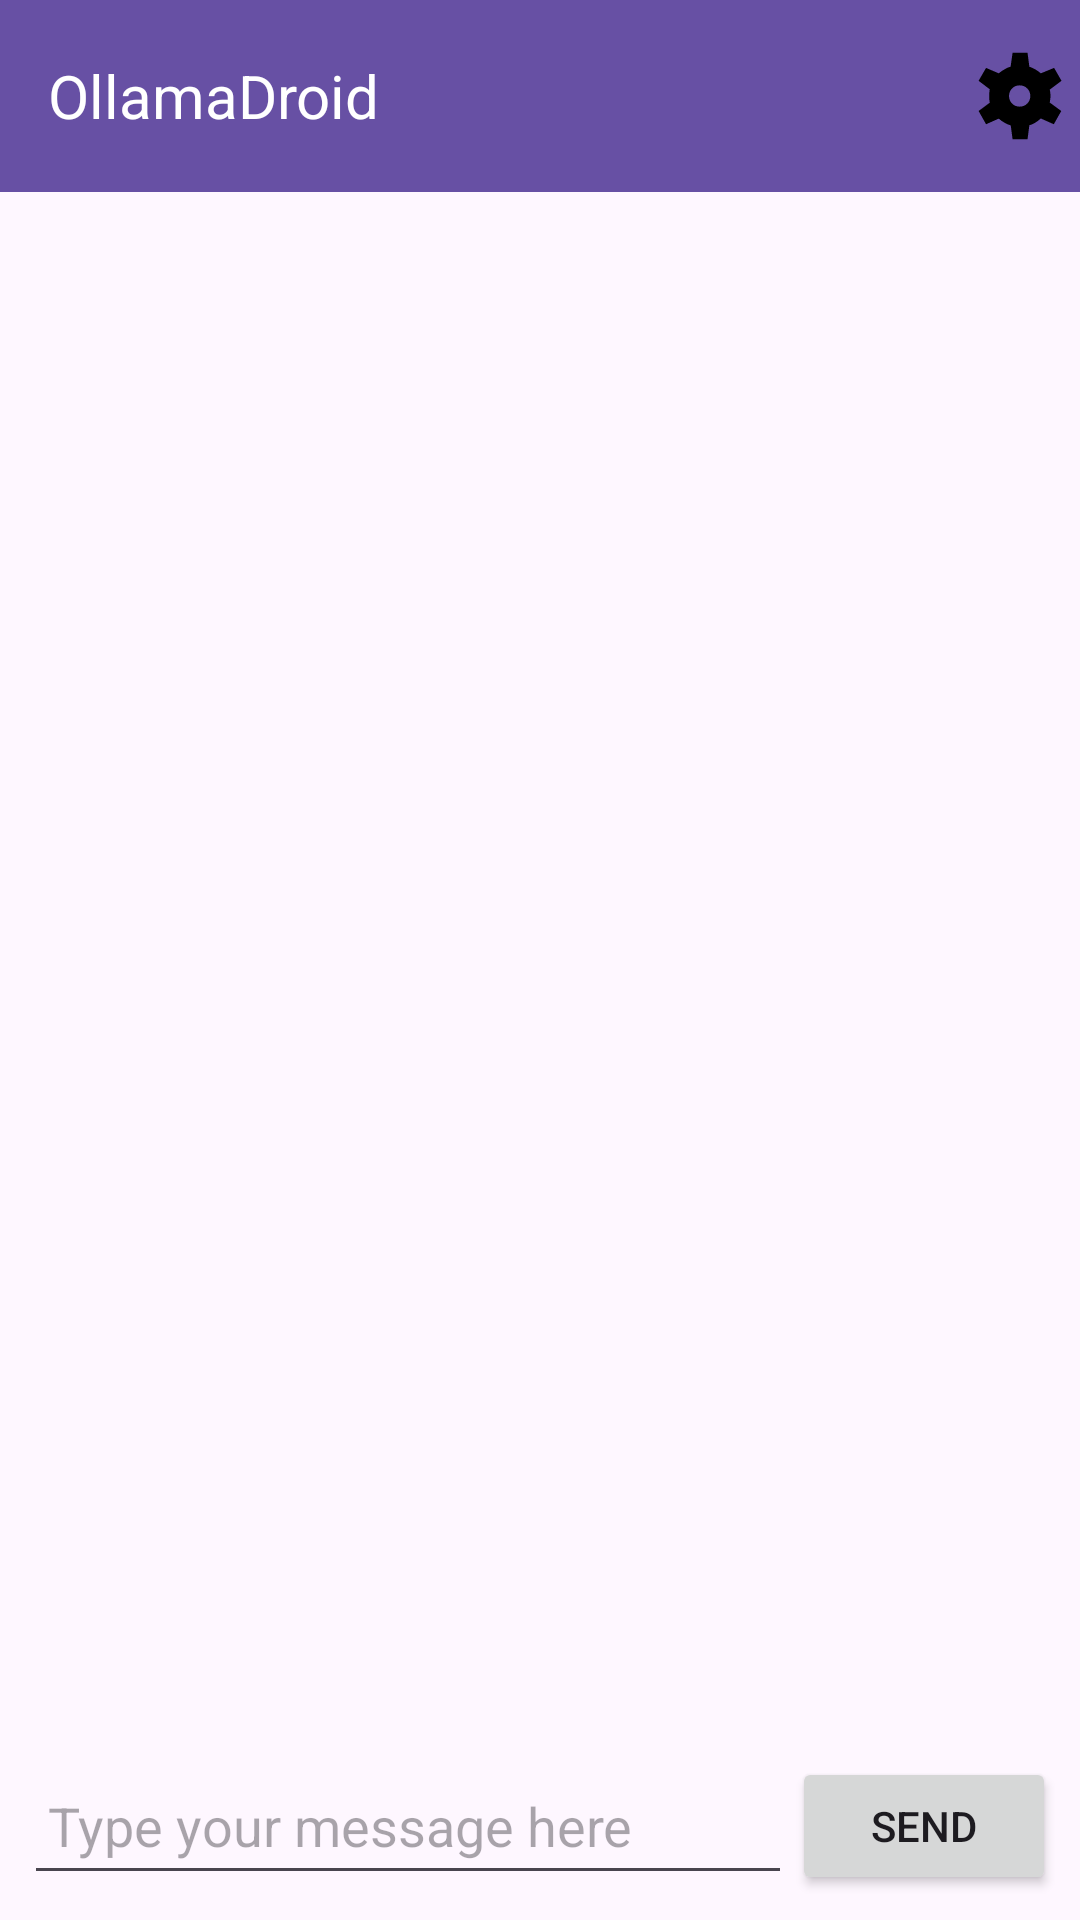

Named icons in this screenshot (1080*1920) and their centers, [x,y]:
Settings: [1020,96]
